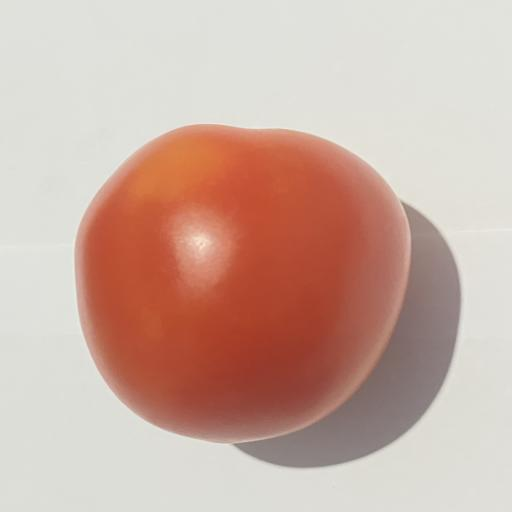ripe: (75, 125, 410, 444)
